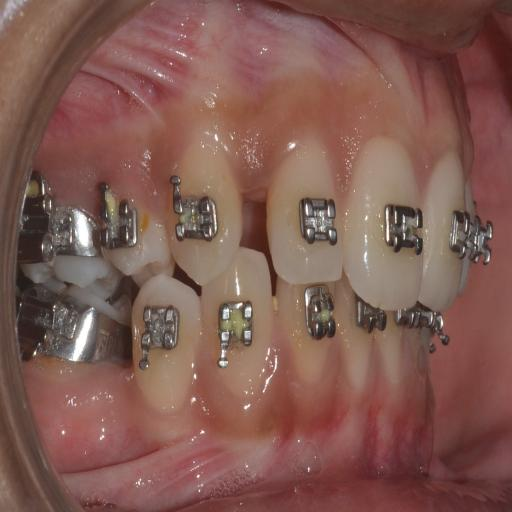correct_brace: (131, 278, 195, 402), (173, 176, 220, 247), (137, 304, 186, 370), (382, 195, 424, 257), (296, 190, 338, 248)
incorrect_brace: (268, 138, 344, 282)
